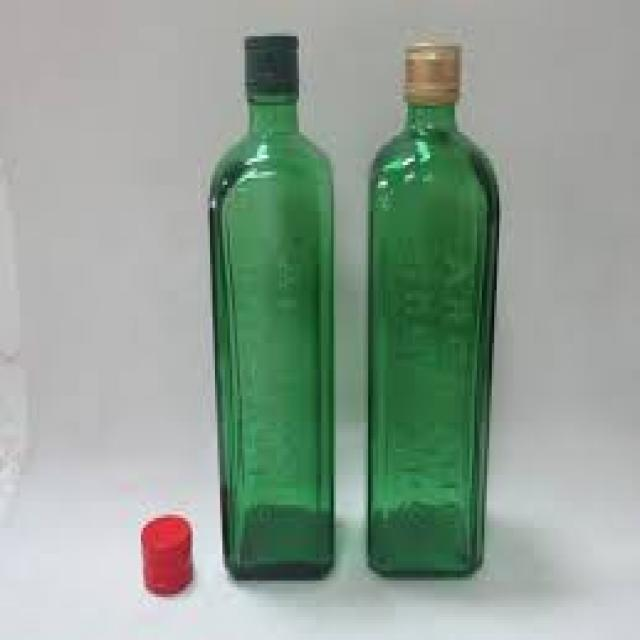Glass-Non-Biodegradable but Recyclable-: (367, 46, 501, 578), (208, 36, 335, 579)
